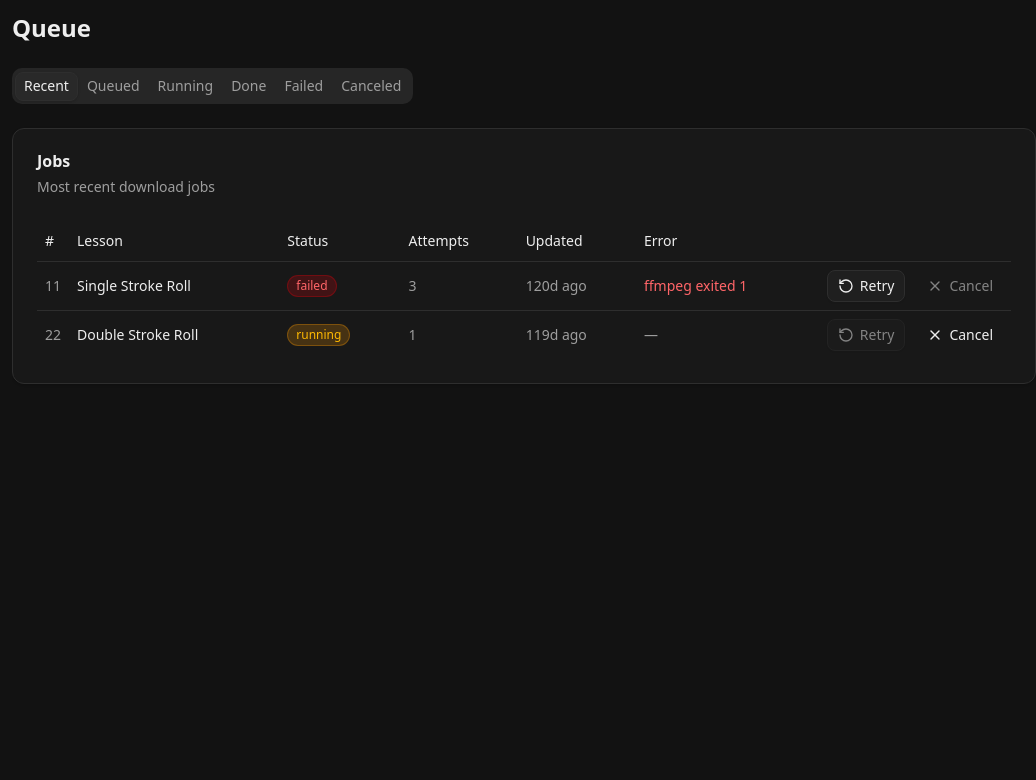
Test: cancels a running job and says so in Lessons' words, naming the lesson
Expected: the text "Double Stroke Roll" is shown, x1=69 y1=310 x2=279 y2=358
Step 1. Click the button "Cancel" in the row of "22" → coordinates (960, 334), box x1=917 y1=318 x2=1003 y2=350
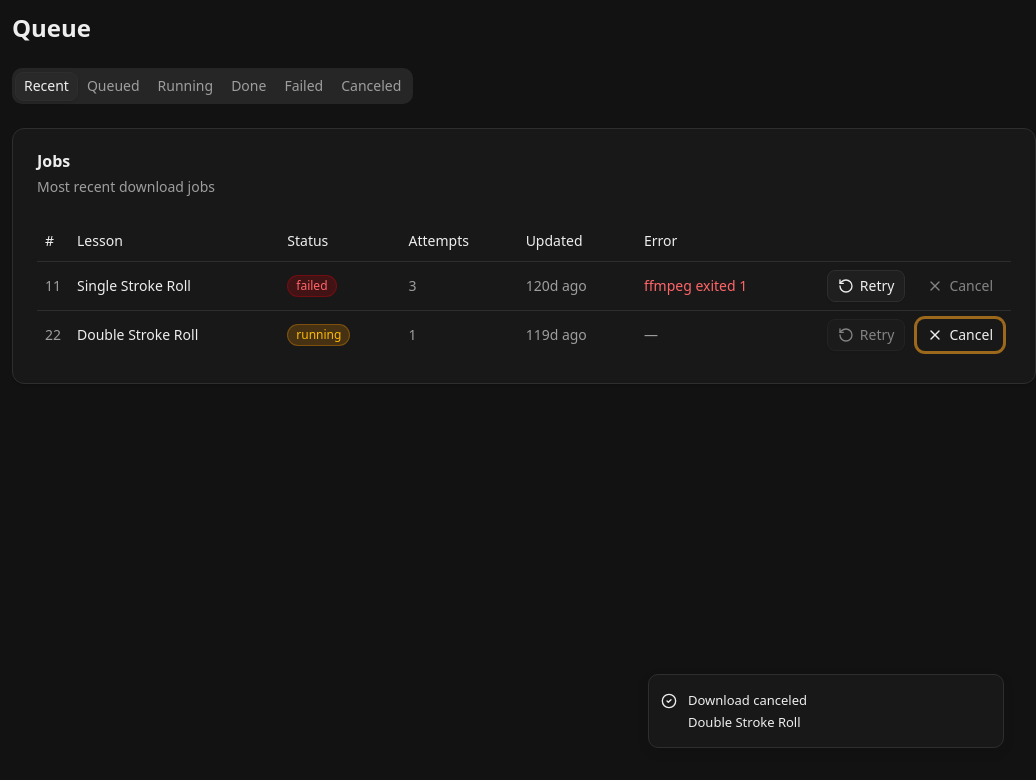
Result: the text "Double Stroke Roll" is shown at x1=688 y1=713 x2=807 y2=731
